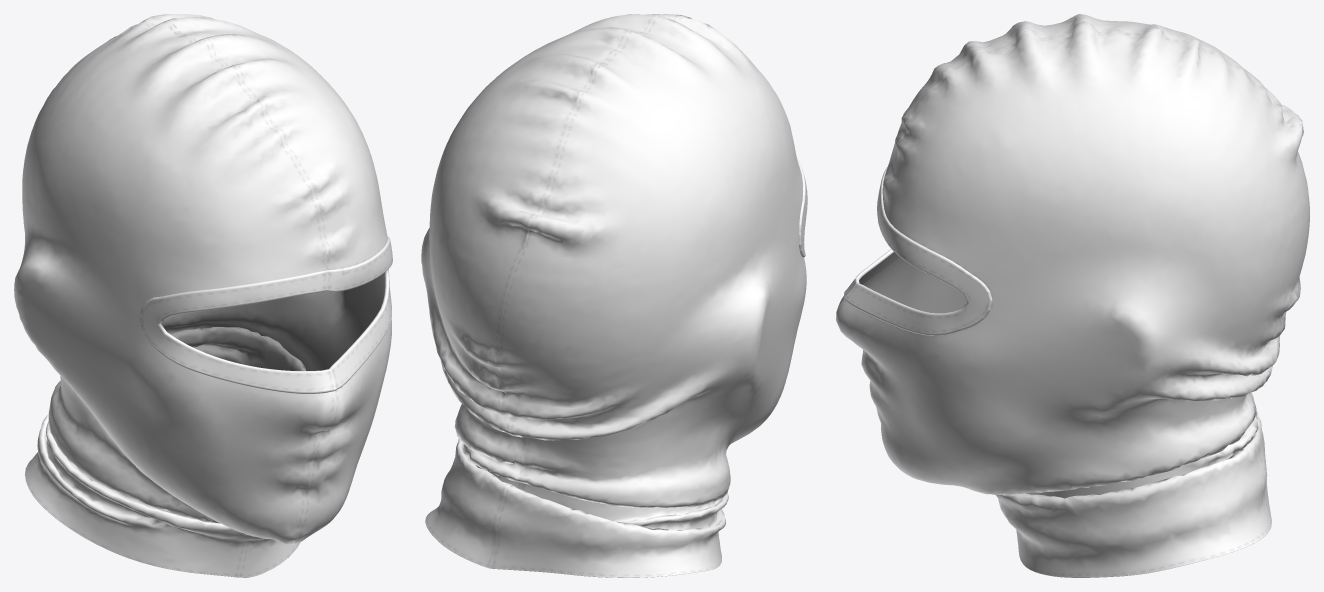
Rendered from hood.glb.
3 views of the same model, side by side, from view 1: azimuth 30°, elevation 25°; view 2: azimuth 150°, elevation 25°; view 3: azimuth 270°, elevation 25° (orthographic).
Visible parts, largest first — view 1: Object_3, Object_2, Object_4; view 2: Object_3, Object_4; view 3: Object_3, Object_2, Object_4.
Part boxes in pixels (x1,y1,x2,y2): Object_3: (14,14,392,577); Object_2: (161,273,384,370); Object_4: (25,29,392,577); Object_3: (421,14,807,577); Object_4: (425,99,805,577); Object_3: (836,14,1309,577); Object_2: (859,252,967,313); Object_4: (838,33,1266,577).
Bounding box in the file's own units: 191 × 286 × 234.
2 materials, 1 textured.
